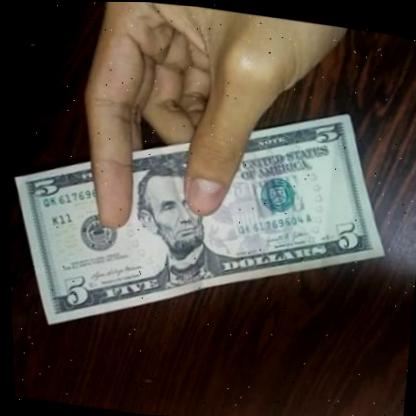dollar_front: (2, 68, 409, 365)
